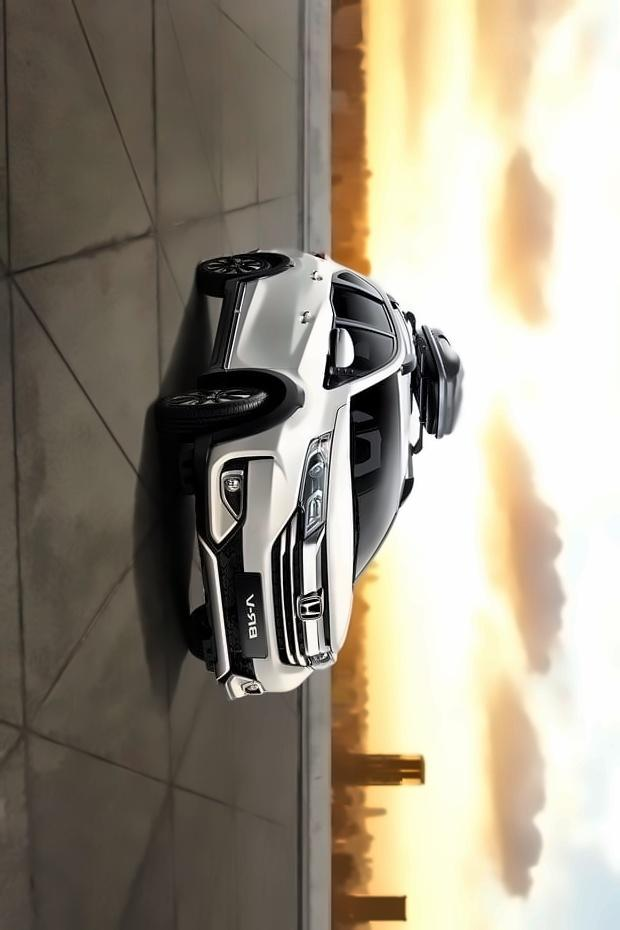Car hood: (323, 403, 355, 659)
Driver-s door - -F-R-: (224, 311, 410, 388)
Fender - -F-R-: (207, 365, 347, 437)
Fender - -R-R-: (276, 249, 336, 276)
Front bumper: (186, 429, 300, 700)
Headlight - -L-: (299, 638, 340, 684)
Headlight - -R-: (292, 424, 339, 547)
Passenger-s door - -R-R-: (231, 273, 395, 323)
Rear bumper: (243, 241, 284, 255)
Rear light - -R-: (305, 244, 332, 263)
Side bumper - -R-: (199, 275, 249, 394)
Side mirror - -R-: (319, 318, 358, 372)
